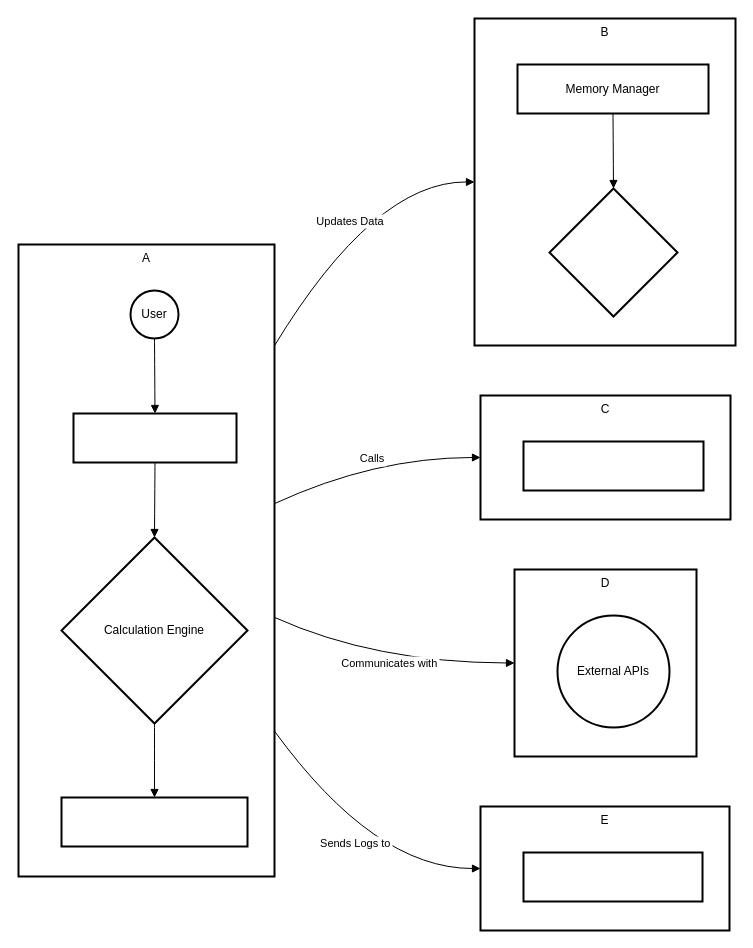
Some shapes in this 753 by 948 pixel diagram are drawn without their labels. The shapes that lost their labels are listed below. From the top down, each one's centre as x and y in pixels, then its label:
the point at 613,252: Data Store
the point at 154,437: Input Handler
the point at 613,465: Utility Functions
the point at 154,821: Output Renderer
the point at 612,876: Logging Service
